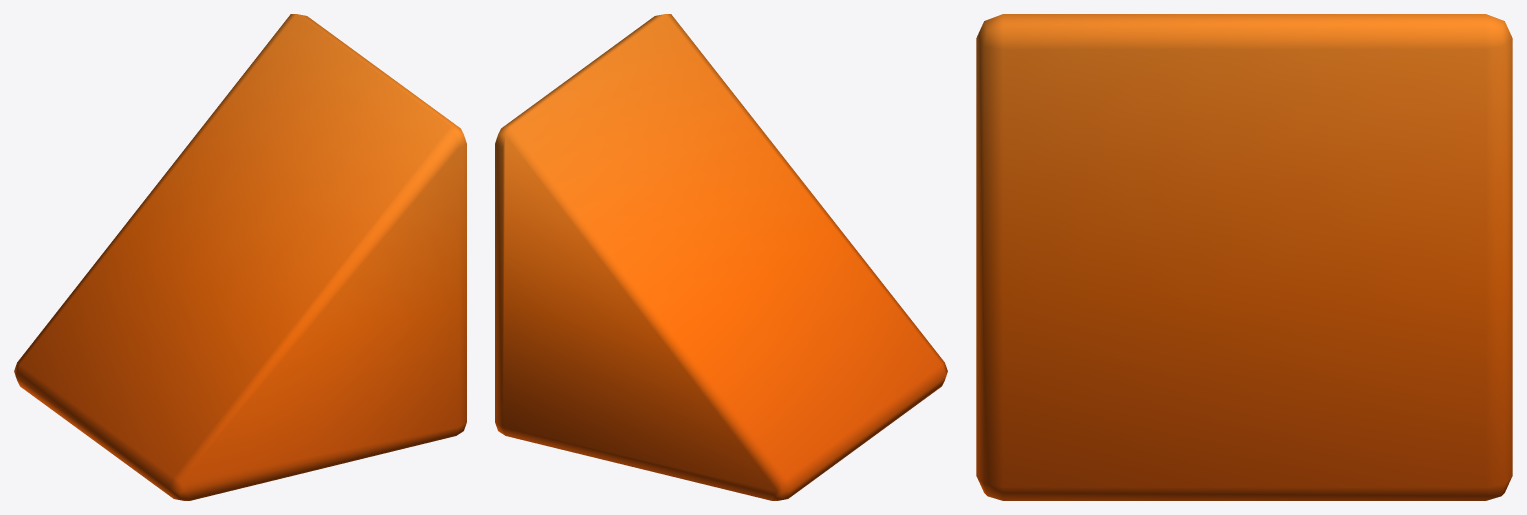
File: 3D_Tile_Ground_Slope_03.glb
3 views of the same model, side by side, from view 1: azimuth 30°, elevation 25°; view 2: azimuth 150°, elevation 25°; view 3: azimuth 270°, elevation 25° (orthographic). The views are drawn at different scales.
Visible parts, largest first — view 1: 3D_Tile_Ground_Slope_03; view 2: 3D_Tile_Ground_Slope_03; view 3: 3D_Tile_Ground_Slope_03.
Boxes of the visible parts, box(x1,y1,x2,y2) form: 3D_Tile_Ground_Slope_03: box(14, 14, 466, 500); 3D_Tile_Ground_Slope_03: box(495, 14, 947, 500); 3D_Tile_Ground_Slope_03: box(976, 14, 1512, 500).
Size of the model in its own units: 2 by 2 by 2.
Materials: 1 (1 with a texture image).
